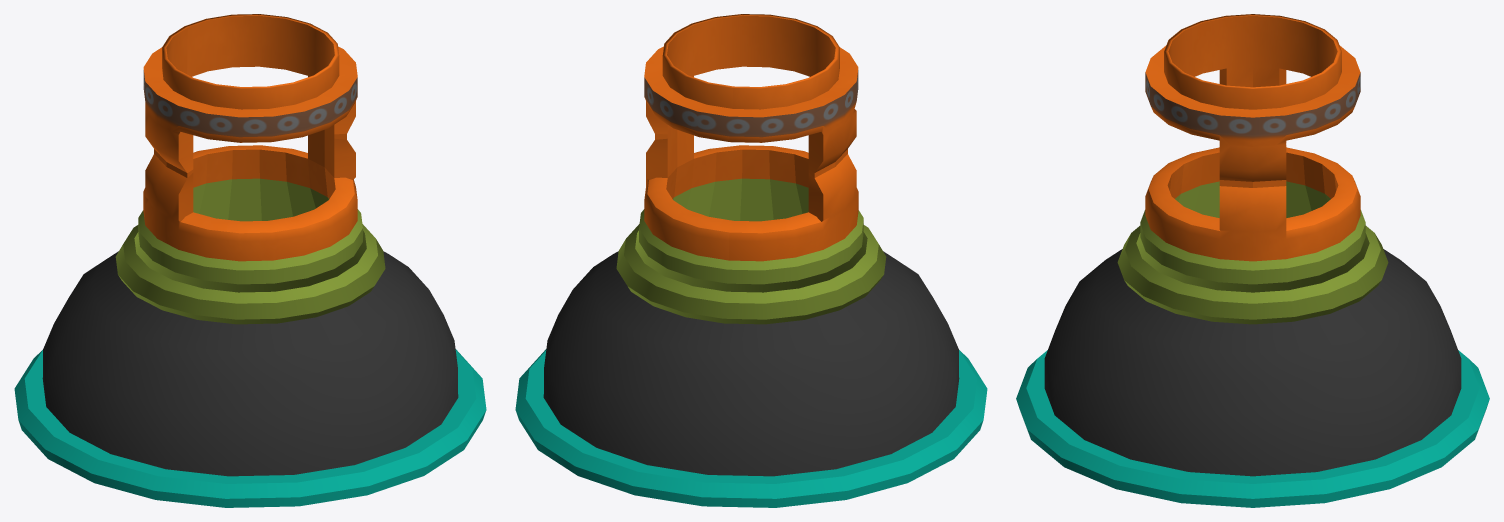
The model's file is Tubing_V2_Head_WithAnim.fbx.
3 renders of one model, left to right at view 1: azimuth 30°, elevation 25°; view 2: azimuth 150°, elevation 25°; view 3: azimuth 270°, elevation 25°, orthographic.
Visible parts, largest first — view 1: Pipe_Head; view 2: Pipe_Head; view 3: Pipe_Head.
Boxes of the visible parts, left/top/right/bottom form: Pipe_Head: left=14, top=14, right=486, bottom=507; Pipe_Head: left=515, top=14, right=987, bottom=507; Pipe_Head: left=1016, top=14, right=1489, bottom=507.
Size of the model in its own units: 330 by 275 by 330.
4 materials, 1 textured.
